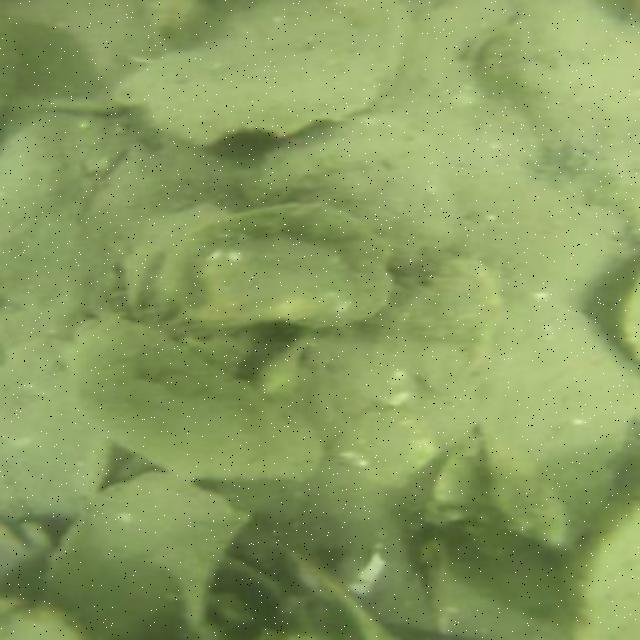Oyster-Closed: (111, 0, 413, 147), (472, 295, 639, 550), (72, 319, 324, 480), (244, 115, 466, 268), (155, 204, 392, 333)
